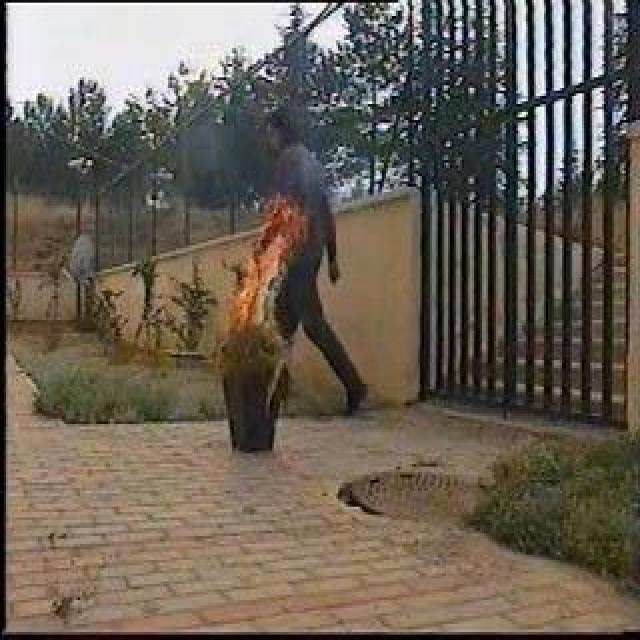fire: (232, 202, 292, 322)
